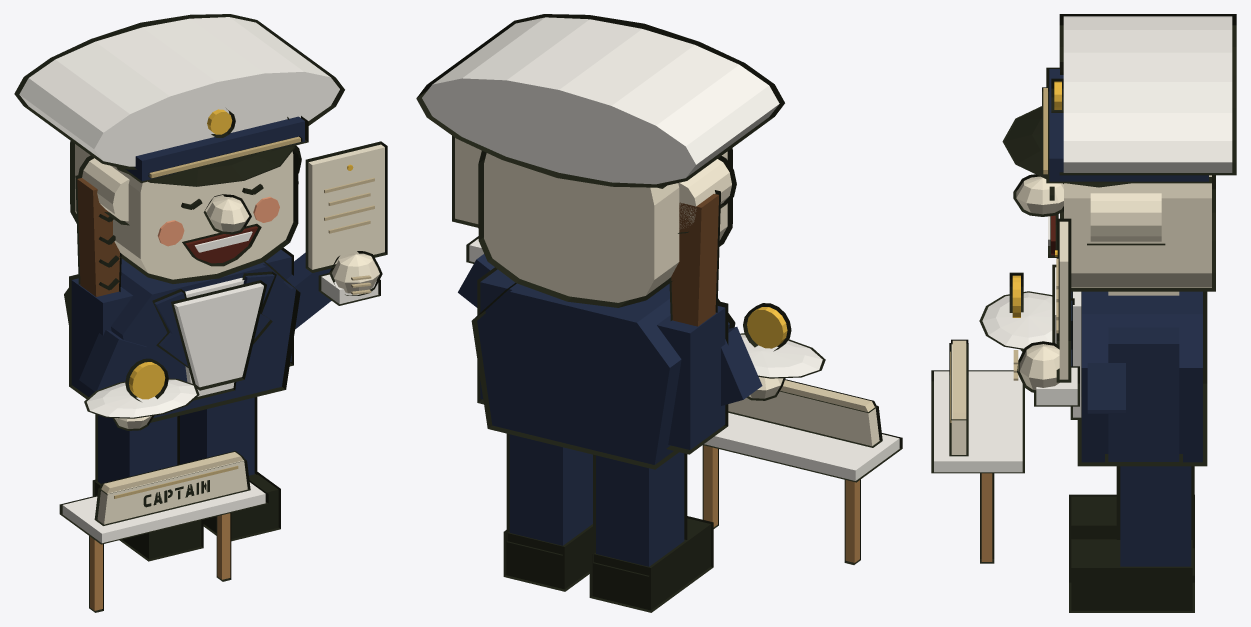
The picture shows the model from 3 angles, left to right: view 1: azimuth 30°, elevation 25°; view 2: azimuth 150°, elevation 25°; view 3: azimuth 270°, elevation 25°; orthographic projection. The views are drawn at different scales.
Parts seen in each view (by area): view 1: Link Marine; view 2: Link Marine; view 3: Link Marine.
Part boxes in pixels (<box>): Link Marine: <box>14,14,387,612</box>; Link Marine: <box>416,14,902,612</box>; Link Marine: <box>931,14,1236,612</box>.
Size of the model in its own units: 0.7519 by 0.9836 by 0.5155.
